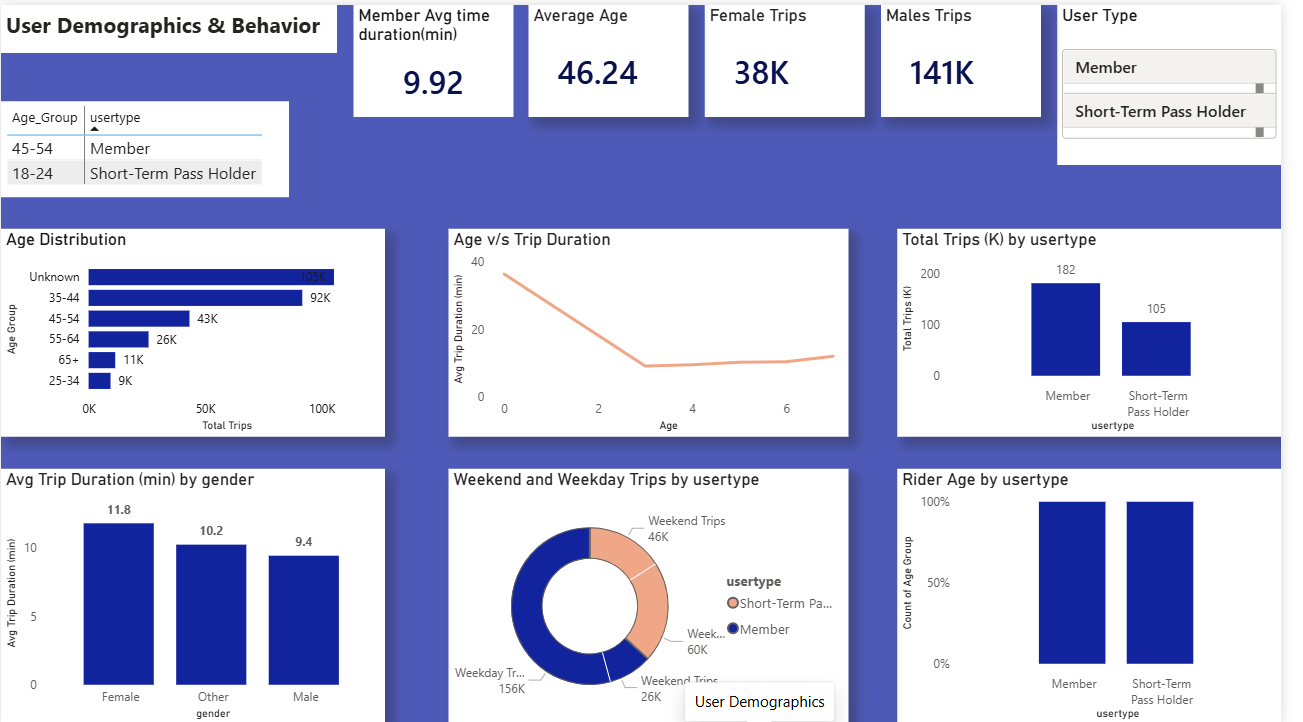

The dashboard page shown, as its layout file describes it:
{"tool":"powerbi","page":{"name":"User Demographics","canvas":[1280,720],"ordinal":3},"visuals":[{"type":"textbox","box":[0,0,336,48],"z":0},{"type":"cardVisual","title":"User Type","fields":{"Rows":["trip.usertype"]},"box":[1056,0,224,160],"z":1},{"type":"cardVisual","title":"Males Trips","fields":{"Data":["Meas.Male Trips"]},"box":[880,0,160,112],"z":2},{"type":"cardVisual","title":"Female Trips","fields":{"Data":["Meas.Female Trips"]},"box":[704,0,160,112],"z":3},{"type":"cardVisual","title":"Average Age","fields":{"Data":["Meas.Avg Rider Age"]},"box":[528,0,160,112],"z":4},{"type":"clusteredColumnChart","fields":{"Category":["trip.gender"],"Y":["Meas.Avg Trip Duration (min)"]},"box":[0,464,384,256],"z":6},{"type":"columnChart","fields":{"Y":["Meas.Total Trips (K)"],"Category":["trip.usertype"]},"box":[896,224,384,208],"z":7},{"type":"hundredPercentStackedColumnChart","title":"Rider Age by usertype","fields":{"Category":["trip.usertype"],"Y":["CountNonNull(trip.Age Group)"]},"box":[896,464,384,256],"z":8},{"type":"tableEx","fields":{"Values":["Meas.Age_Group","trip.usertype"]},"box":[0,96,288,96],"z":9},{"type":"barChart","title":" Age Distribution","fields":{"Category":["trip.Age Group"],"Y":["Meas.Total Trips"]},"box":[0,224,384,208],"z":10},{"type":"donutChart","title":"Weekend and Weekday Trips by usertype","fields":{"Category":["trip.usertype"],"Y":["weatherTable.Weekend Trips","weatherTable.Weekday Trips"]},"box":[448,464,400,256],"z":11},{"type":"cardVisual","title":"Member Avg time duration(min)","fields":{"Data":["Meas.Member Avg Duration (min)"]},"box":[352,0,160,112],"z":12},{"type":"lineChart","title":"Age v/s Trip Duration ","fields":{"Y":["Meas.Avg Trip Duration (min)"],"Category":["trip.Age Group Sort"]},"box":[448,224,400,208],"z":13}]}

Visuals, with their boxes in screenshot pixels (x1, y1, x2, y2), scaled from the page's 1280x720 canvas onto the 1303x722 screenshot:
textbox: [0, 0, 342, 48]
"User Type" cardVisual: [1075, 0, 1302, 160]
"Males Trips" cardVisual: [896, 0, 1059, 112]
"Female Trips" cardVisual: [717, 0, 880, 112]
"Average Age" cardVisual: [537, 0, 700, 112]
clusteredColumnChart - trip.gender x Meas.Avg Trip Duration (min): [0, 465, 391, 721]
columnChart - Meas.Total Trips (K) x trip.usertype: [912, 225, 1302, 433]
"Rider Age by usertype" hundredPercentStackedColumnChart: [912, 465, 1302, 721]
tableEx - Meas.Age_Group x trip.usertype: [0, 96, 293, 193]
" Age Distribution" barChart: [0, 225, 391, 433]
"Weekend and Weekday Trips by usertype" donutChart: [456, 465, 863, 721]
"Member Avg time duration(min)" cardVisual: [358, 0, 521, 112]
"Age v/s Trip Duration " lineChart: [456, 225, 863, 433]
